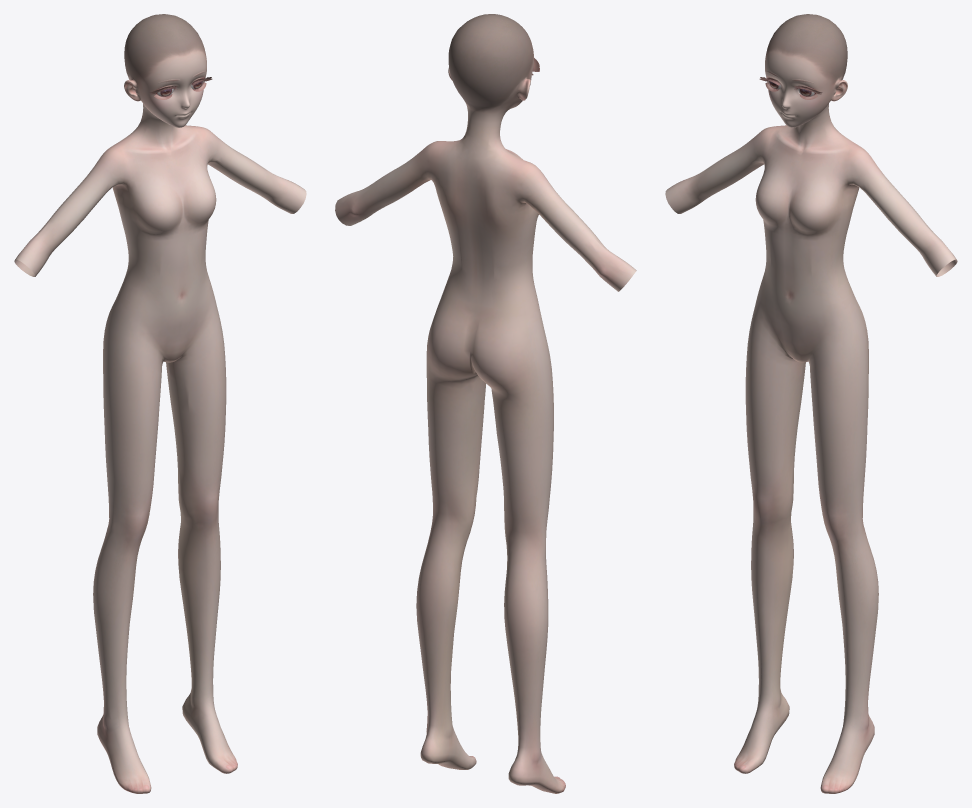
The model's file is nikki.fbx.
3 views of the same model, side by side, from view 1: azimuth 30°, elevation 25°; view 2: azimuth 150°, elevation 25°; view 3: azimuth 330°, elevation 25° (orthographic). The views are drawn at different scales.
Visible parts, largest first — view 1: Body_geo_1, Leg_geo_4, Leg_geo_2, Leg_geo_3, Face_geo, Leg_geo_1, Body_geo_2, Body_geo_3; view 2: Body_geo_1, Leg_geo_4, Leg_geo_3, Leg_geo_1, Face_geo, Leg_geo_2, Body_geo_2, Body_geo_3; view 3: Body_geo_1, Leg_geo_4, Leg_geo_2, Leg_geo_3, Face_geo, Leg_geo_1, Body_geo_2, Body_geo_3.
Boxes of the visible parts, x1,y1,x2,y2 form: Body_geo_1: (14, 108, 306, 285); Leg_geo_4: (93, 478, 237, 793); Leg_geo_2: (103, 333, 226, 430); Leg_geo_3: (104, 403, 226, 502); Face_geo: (124, 14, 206, 127); Leg_geo_1: (103, 292, 222, 366); Body_geo_2: (120, 267, 210, 306); Body_geo_3: (116, 282, 213, 319); Body_geo_1: (335, 117, 636, 291); Leg_geo_4: (416, 492, 565, 793); Leg_geo_3: (427, 413, 553, 520); Leg_geo_1: (426, 300, 549, 391); Face_geo: (448, 14, 533, 123); Leg_geo_2: (426, 355, 553, 442); Body_geo_2: (444, 270, 537, 309); Body_geo_3: (440, 289, 540, 323); Body_geo_1: (665, 108, 957, 285); Leg_geo_4: (734, 478, 878, 793); Leg_geo_2: (745, 333, 868, 430); Leg_geo_3: (745, 403, 867, 502); Face_geo: (765, 14, 847, 127); Leg_geo_1: (749, 292, 868, 366); Body_geo_2: (761, 267, 851, 306); Body_geo_3: (758, 282, 855, 319).
Size of the model in its own units: 0.6326 by 1.57 by 0.1807.
9 materials, 9 textured.
